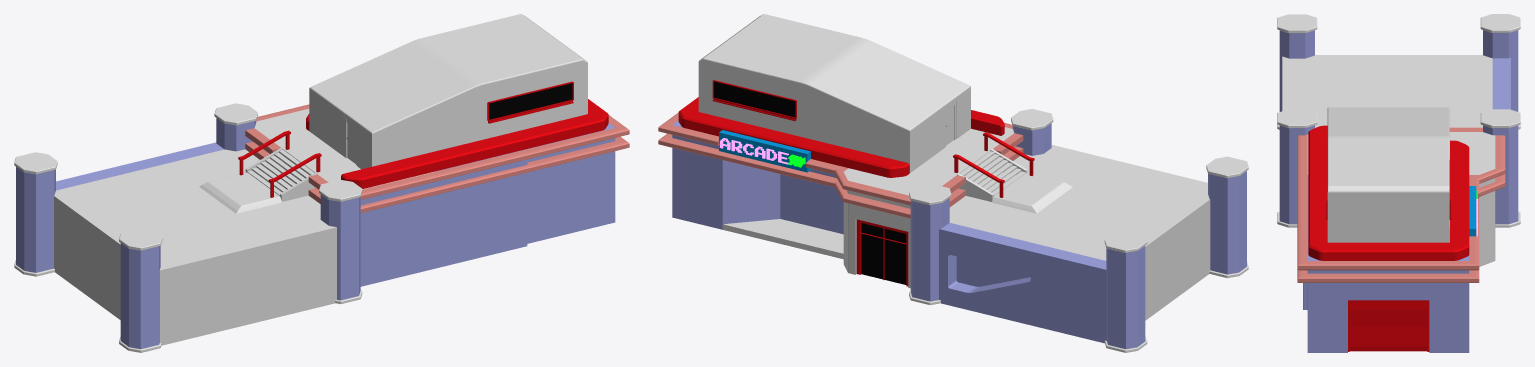
Rendered from ArcadeStudio.fbx.
The picture shows the model from 3 angles, left to right: view 1: azimuth 30°, elevation 25°; view 2: azimuth 150°, elevation 25°; view 3: azimuth 270°, elevation 25°; orthographic projection. The views are drawn at different scales.
Visible parts, largest first — view 1: Cube.242, Cube.103, Cube.097, Cube.100, Cube.110, Cube.121, LowPolyPillar.003, LowPolyPillar.002, LowPolyPillar.001, Cube.096, Stair.006, Cube.104 (+4 smaller); view 2: Cube.103, Cube.242, Cube.054, Cube.100, Cube.096, Cube.110, LowPolyPillar.002, Cube.121, LowPolyPillar.003, LowPolyPillar, Cube.097, Big glass door.001 (+8 smaller); view 3: Cube.103, Cube.242, Cube.100, Cube.121, Cube.110, Plane.002, LowPolyPillar.001, LowPolyPillar, Cube.096, LowPolyPillar.002, LowPolyPillar.003, Cube.054 (+2 smaller).
Part boxes in pixels (bbox=[...]): Cube.242: bbox=[54, 149, 336, 345]; Cube.103: bbox=[309, 14, 587, 169]; Cube.097: bbox=[360, 149, 527, 286]; Cube.100: bbox=[525, 123, 615, 243]; Cube.110: bbox=[245, 104, 629, 212]; Cube.121: bbox=[306, 99, 608, 188]; LowPolyPillar.003: bbox=[119, 228, 162, 352]; LowPolyPillar.002: bbox=[14, 152, 57, 276]; LowPolyPillar.001: bbox=[319, 179, 362, 303]; Cube.096: bbox=[254, 108, 434, 189]; Stair.006: bbox=[238, 130, 321, 201]; Cube.104: bbox=[199, 172, 281, 213]; Cube.103: bbox=[698, 14, 970, 172]; Cube.242: bbox=[949, 145, 1210, 320]; Cube.054: bbox=[939, 222, 1106, 343]; Cube.100: bbox=[672, 120, 780, 229]; Cube.096: bbox=[843, 127, 1013, 288]; Cube.110: bbox=[658, 112, 1023, 218]; LowPolyPillar.002: bbox=[1104, 231, 1147, 352]; Cube.121: bbox=[678, 97, 1004, 177]; LowPolyPillar.003: bbox=[1206, 156, 1248, 278]; LowPolyPillar: bbox=[909, 183, 951, 304]; Cube.097: bbox=[780, 168, 843, 234]; Big glass door.001: bbox=[856, 219, 908, 286]; Cube.103: bbox=[1327, 107, 1449, 242]; Cube.242: bbox=[1282, 55, 1492, 127]; Cube.100: bbox=[1307, 218, 1469, 352]; Cube.121: bbox=[1308, 125, 1469, 260]; Cube.110: bbox=[1297, 127, 1505, 282]; Plane.002: bbox=[1348, 300, 1429, 351]; LowPolyPillar.001: bbox=[1277, 109, 1317, 227]; LowPolyPillar: bbox=[1480, 109, 1520, 227]; Cube.096: bbox=[1307, 132, 1495, 266]; LowPolyPillar.002: bbox=[1480, 14, 1520, 129]; LowPolyPillar.003: bbox=[1277, 14, 1317, 129]; Cube.054: bbox=[1492, 58, 1510, 109].
Size of the model in its own units: 2804 by 850 by 1196.
